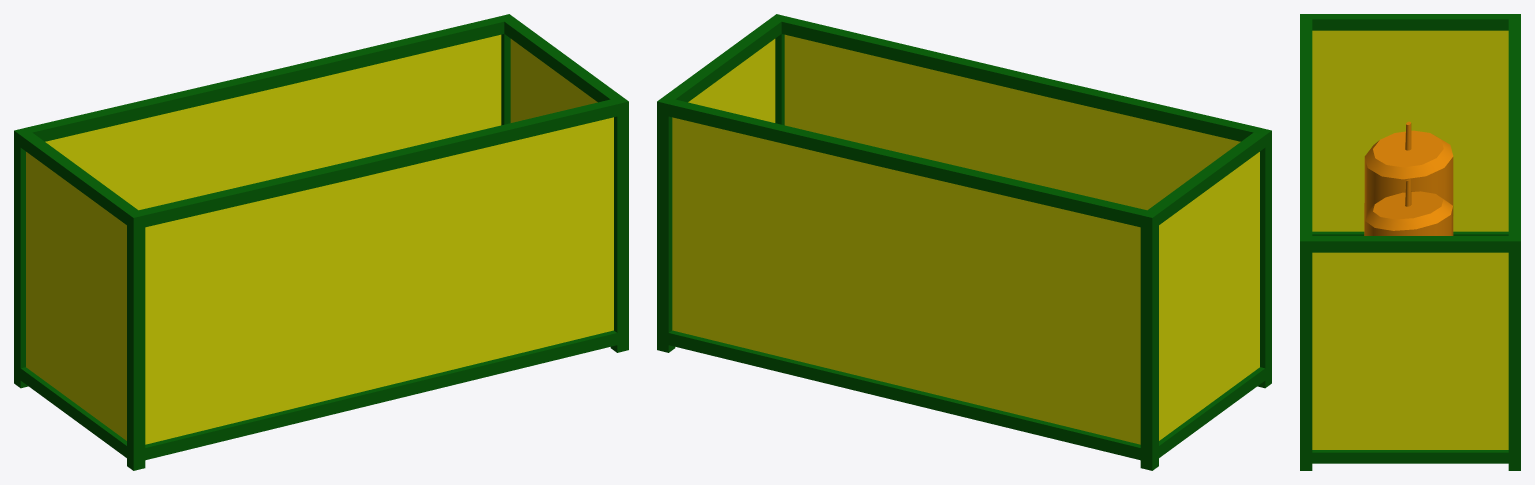
File: CandleInBox.fbx
The picture shows the model from 3 angles, left to right: view 1: azimuth 30°, elevation 25°; view 2: azimuth 150°, elevation 25°; view 3: azimuth 270°, elevation 25°; orthographic projection. The views are drawn at different scales.
Parts seen in each view (by area): view 1: CandleInBox; view 2: CandleInBox; view 3: CandleInBox.
Part boxes in pixels (x1,y1,x2,y2): CandleInBox: (14,14,628,470); CandleInBox: (657,14,1271,470); CandleInBox: (1300,14,1520,470).
Size of the model in its own units: 66 by 32.21 by 27.58.
